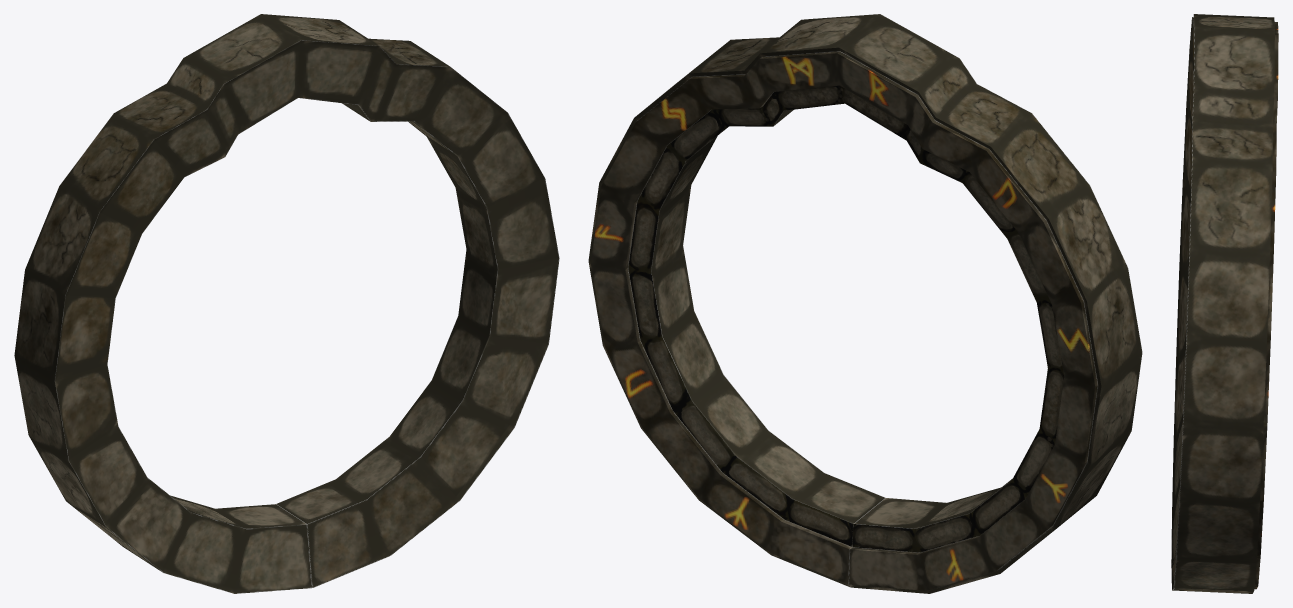
File: portal.fbx
The picture shows the model from 3 angles, left to right: view 1: azimuth 30°, elevation 25°; view 2: azimuth 150°, elevation 25°; view 3: azimuth 270°, elevation 25°; orthographic projection.
Parts seen in each view (by area): view 1: Portal; view 2: Portal; view 3: Portal.
Part boxes in pixels (box(x1,y1,x2,y2)): Portal: box(14, 14, 559, 593); Portal: box(588, 14, 1142, 593); Portal: box(1171, 14, 1278, 593).
Size of the model in its own units: 398 by 409 by 73.32.
1 material, 1 textured.
